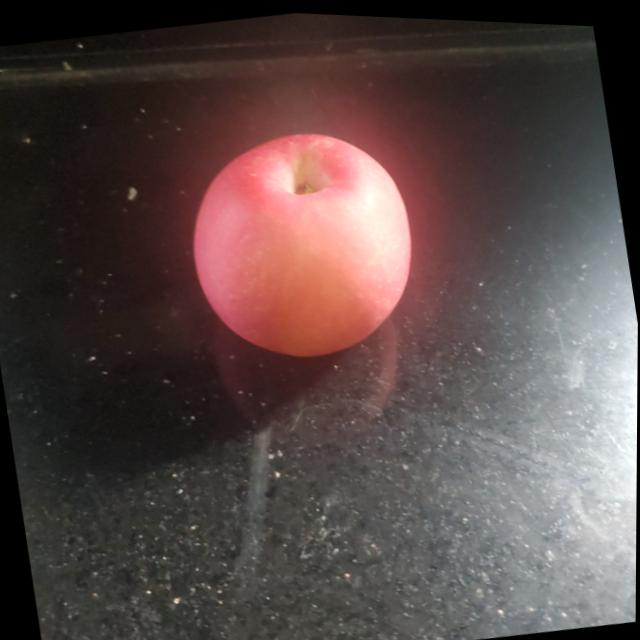apple: (177, 108, 429, 373)
